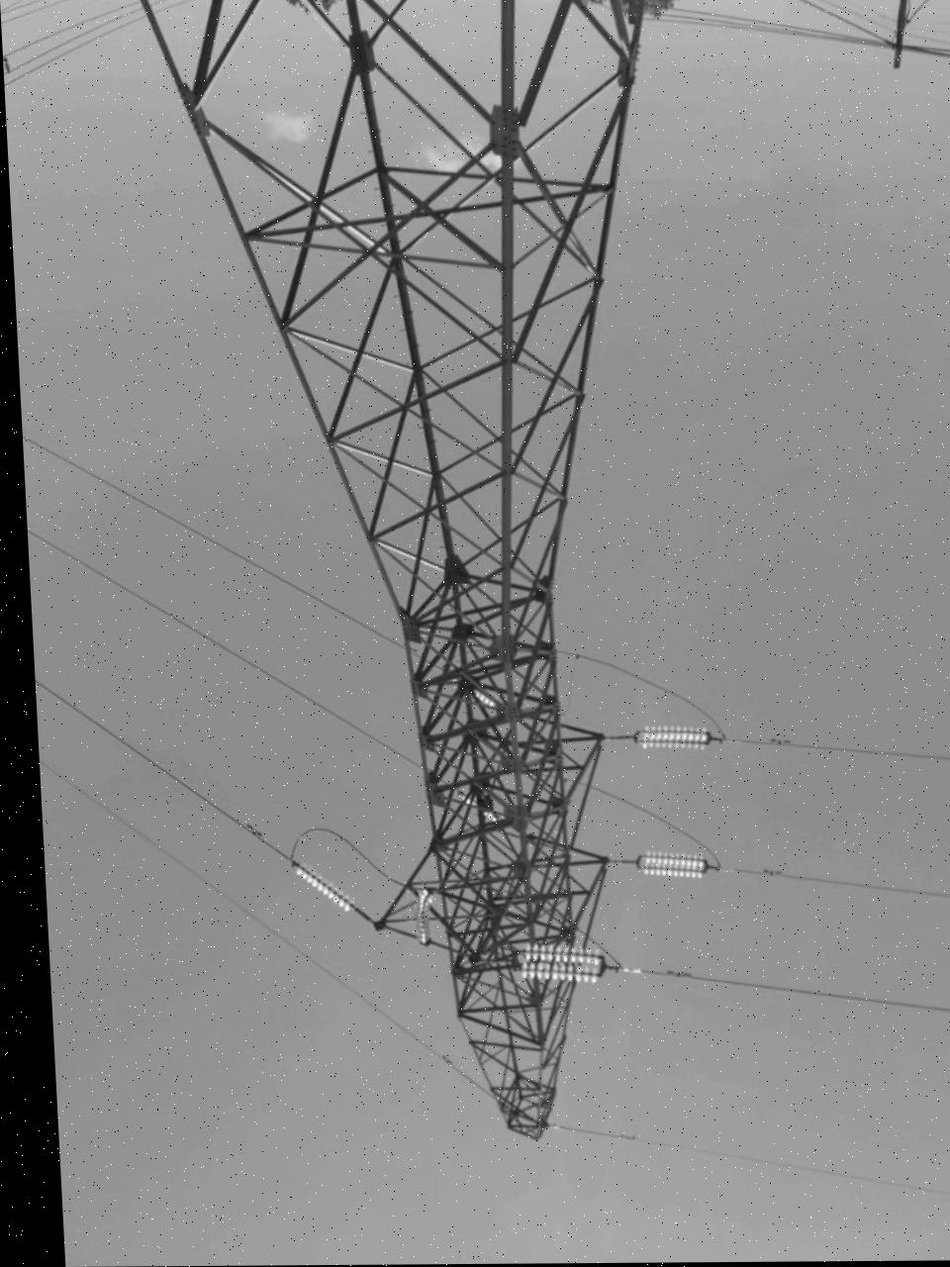tower: (135, 0, 721, 1159)
